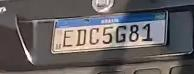Placa_mercosul_carro: (51, 9, 168, 54)
